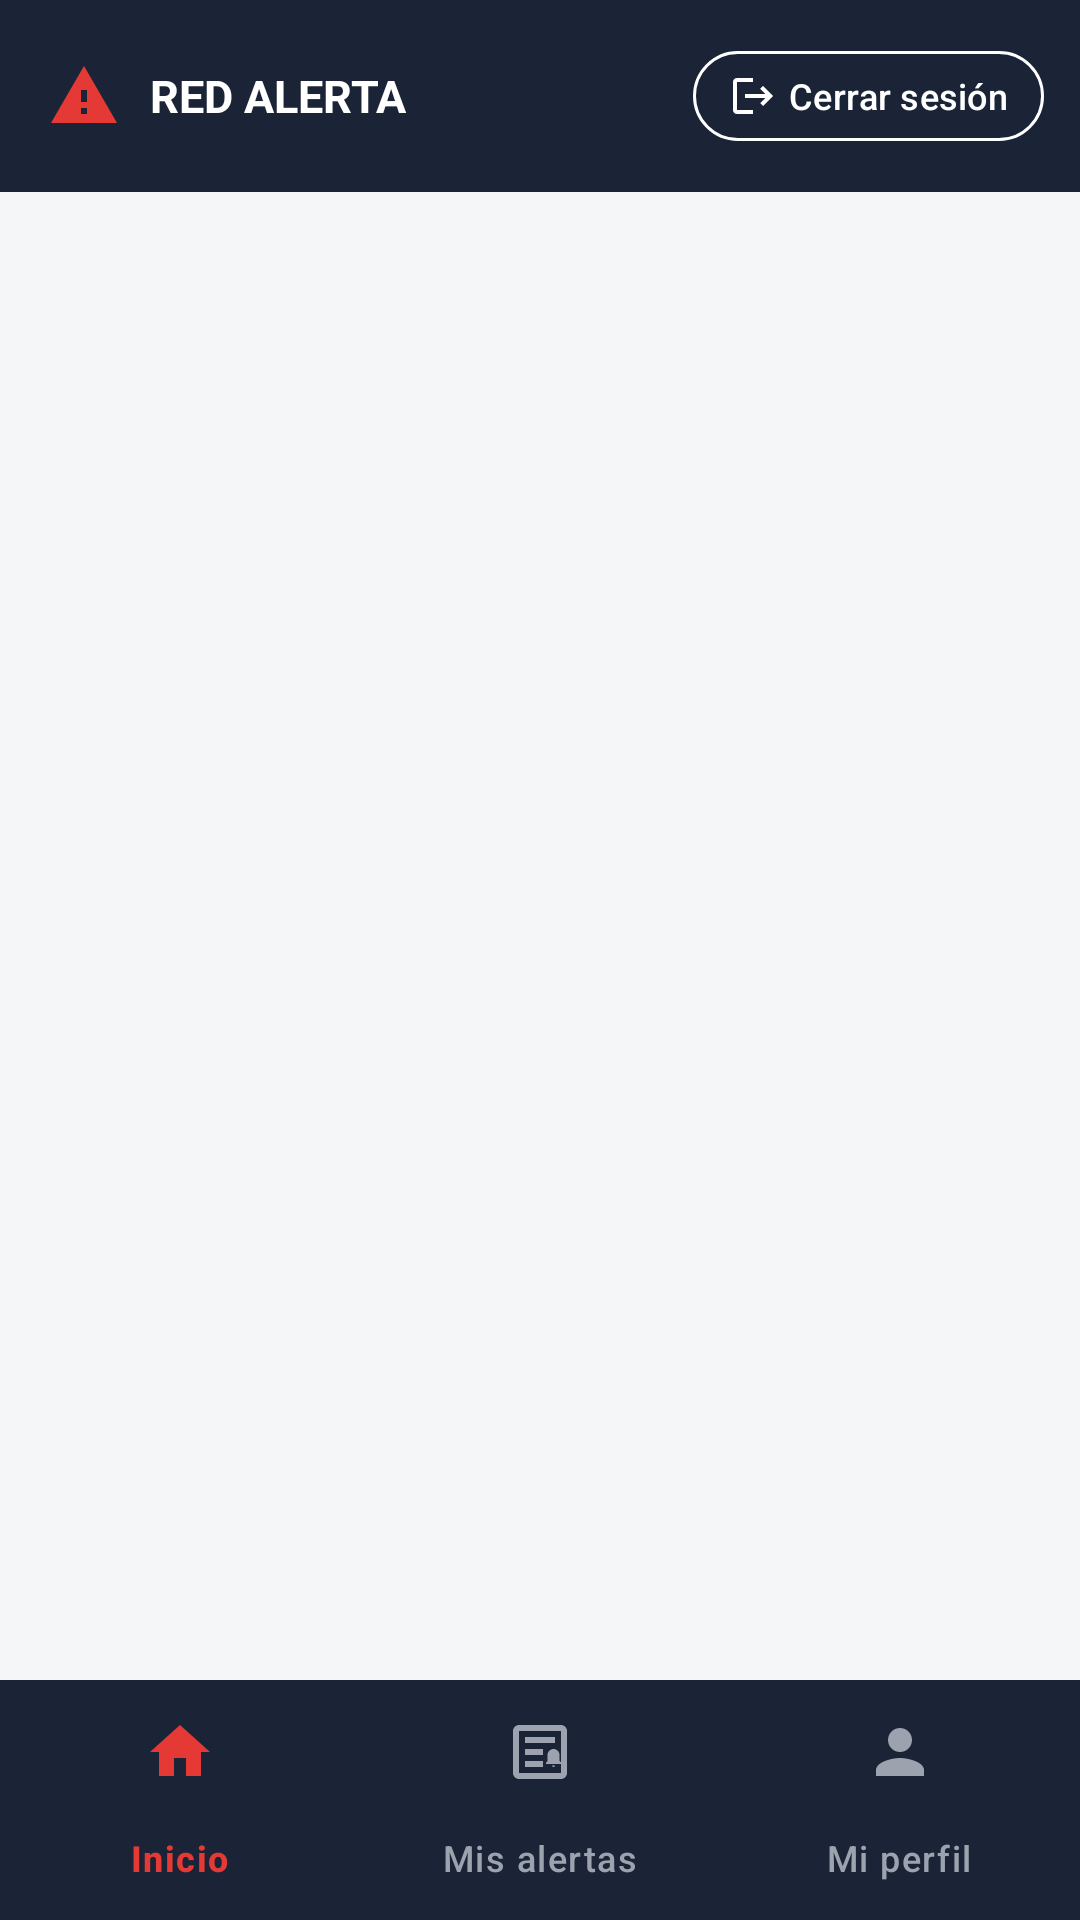

Locate icon controls on the screen. Image size 1080px x 1920px, boxes as [x1,y1,x2,y2].
warning: [51,66,117,123]
